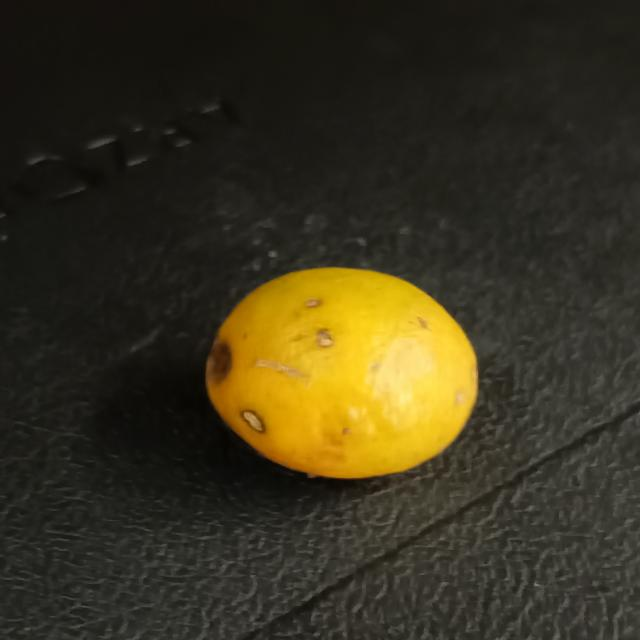black spot: (202, 266, 488, 484)
